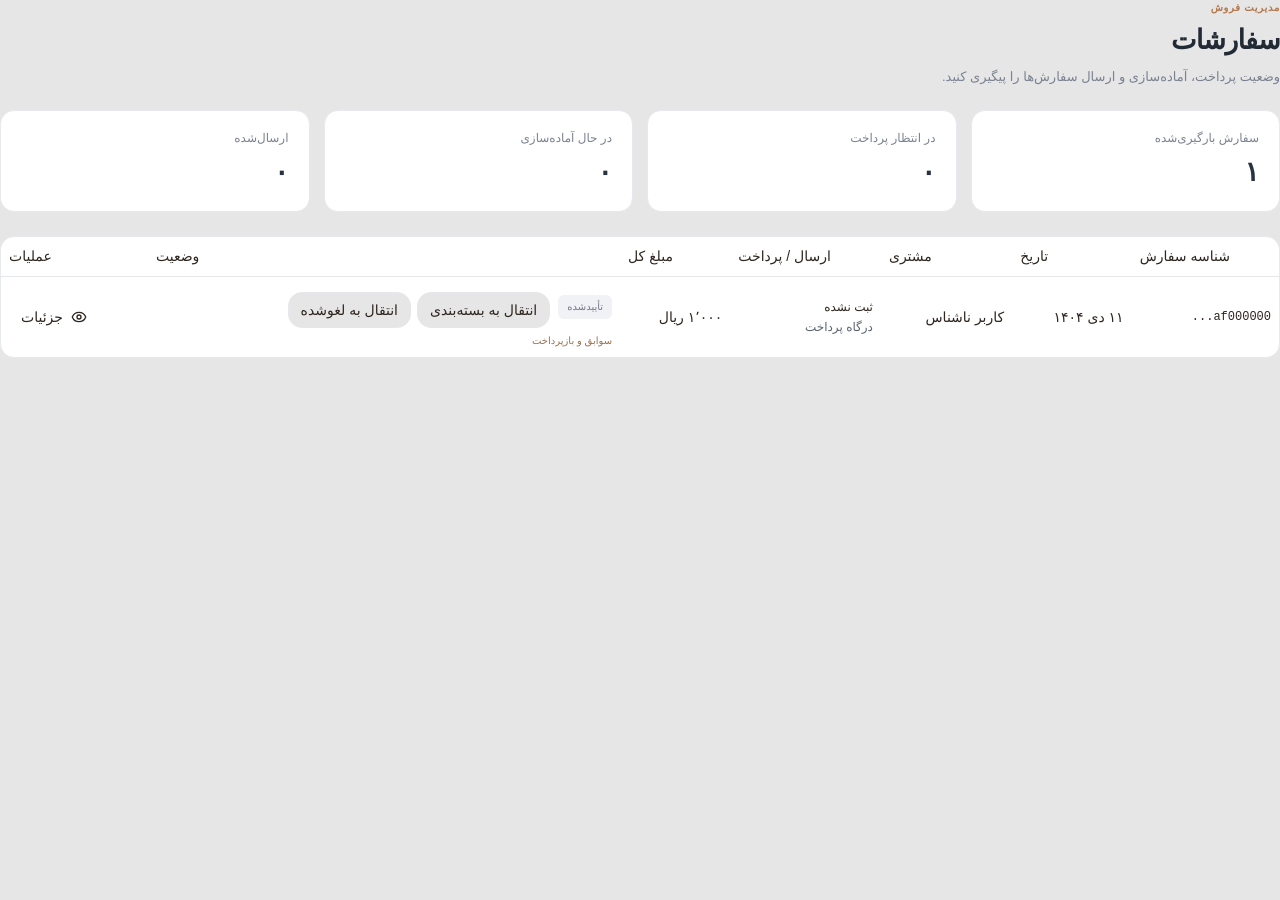
legacy order page uses the reviewed ERP workflow › retains uncertainty and the same request key without a legacy fallback
This screenshot has width=1280, height=900.
Step 1. Click the button "انتقال به بسته‌بندی" → click(484, 310), box [417,292,550,328]
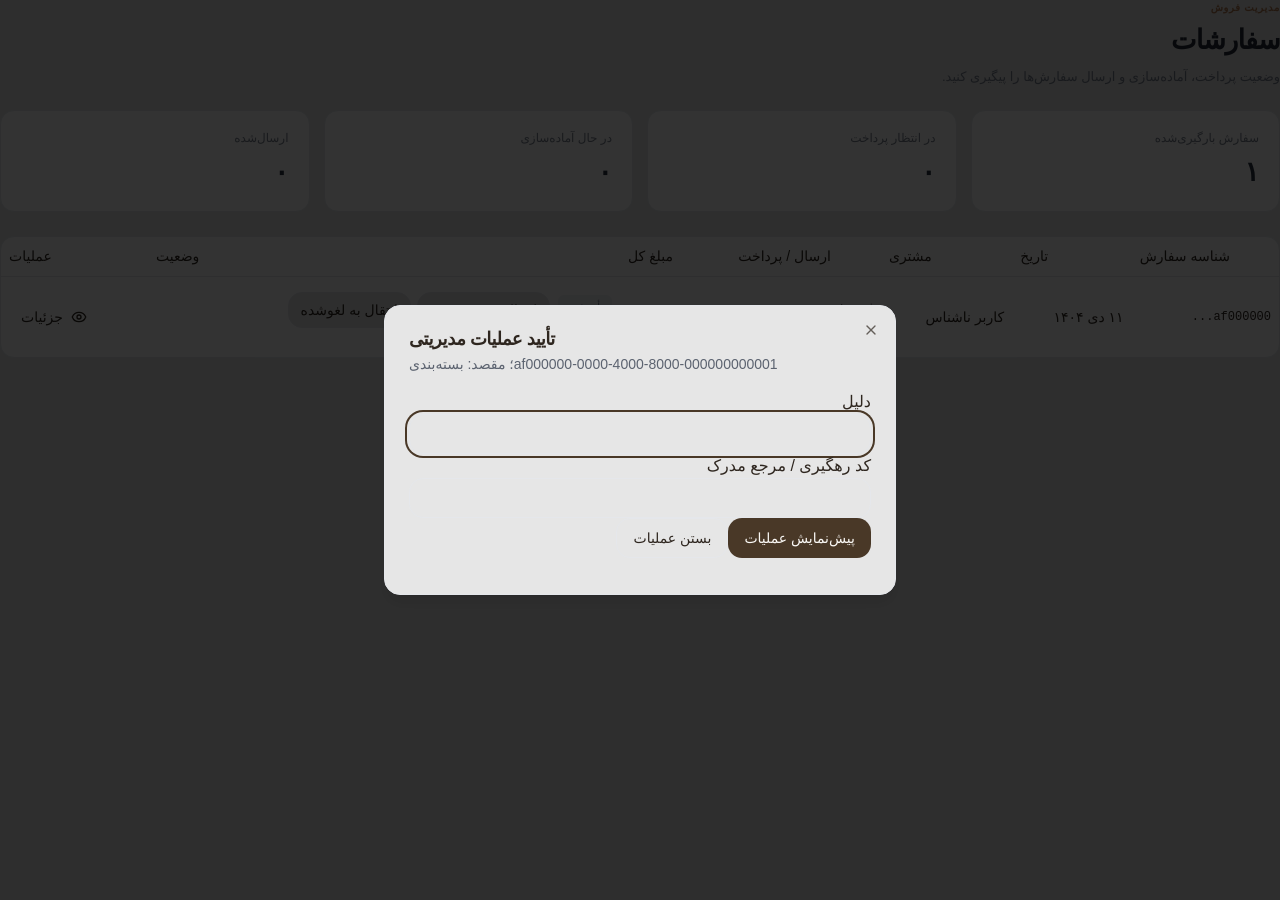
Step 2. Type "packing fixture" into the field named "دلیل عملیات" → (640, 434), box [409,414,871,454]
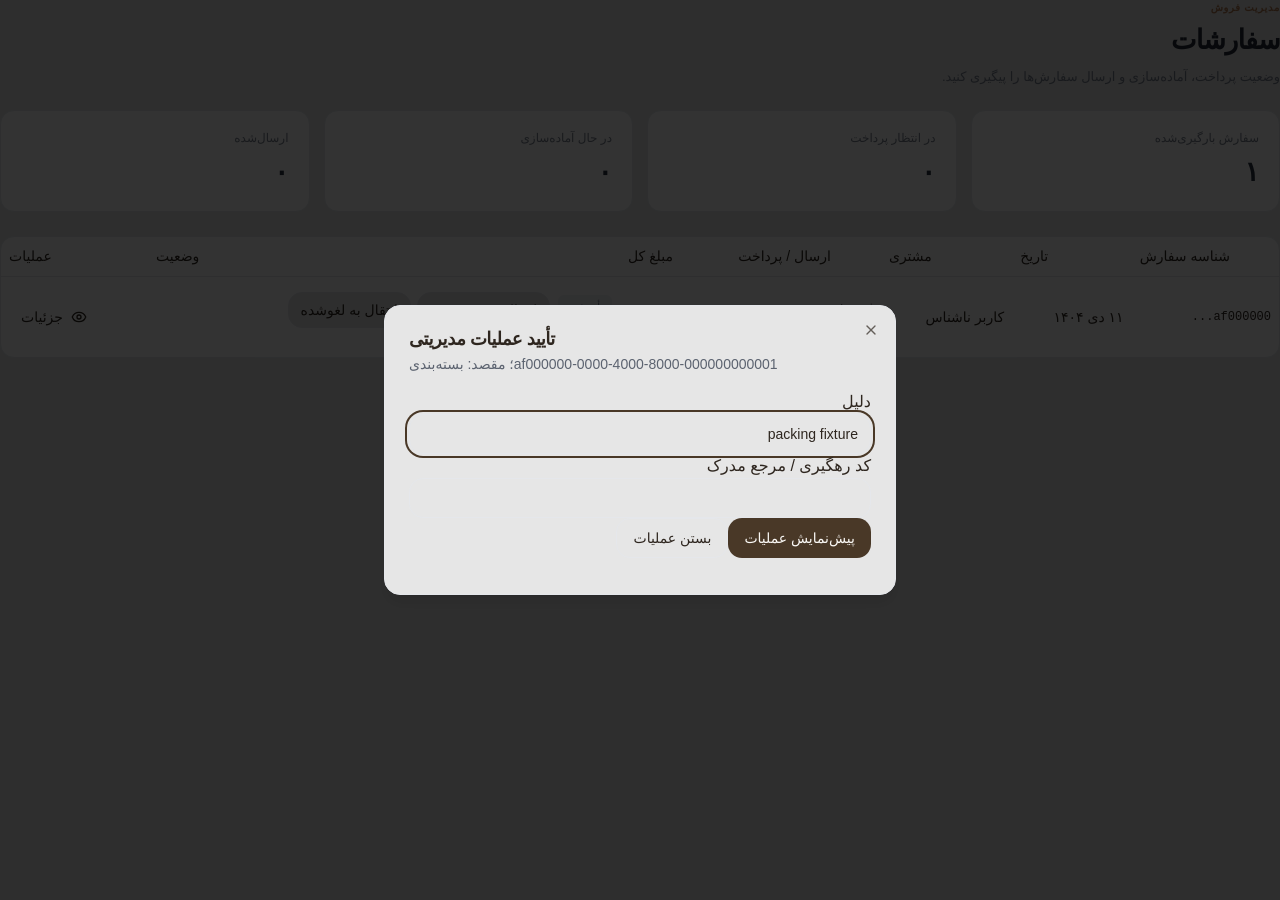
Step 3. Click the button "پیش‌نمایش عملیات" → click(800, 538), box [728,518,871,558]
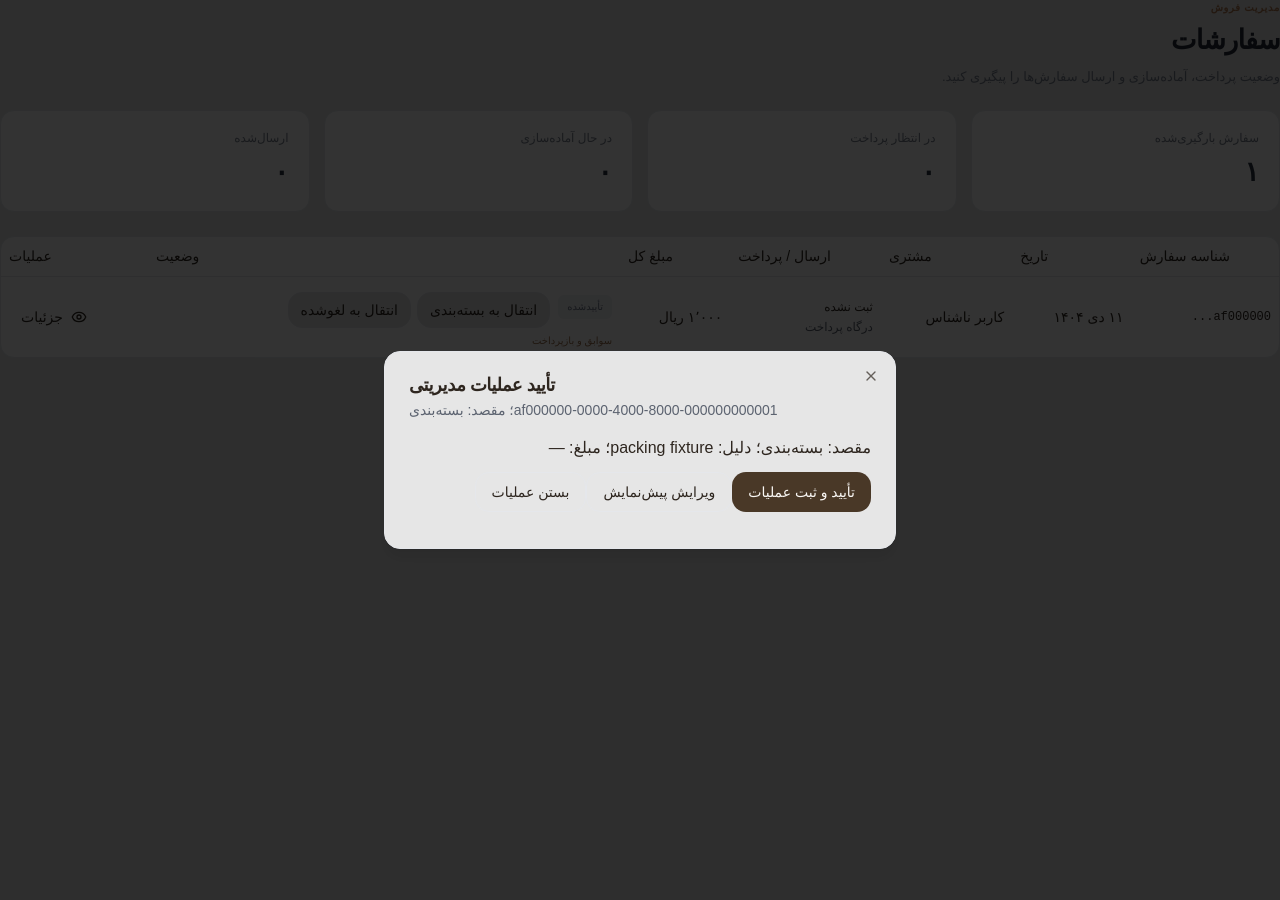
Step 4. Click the button "تأیید و ثبت عملیات" → click(802, 492), box [732,472,871,512]
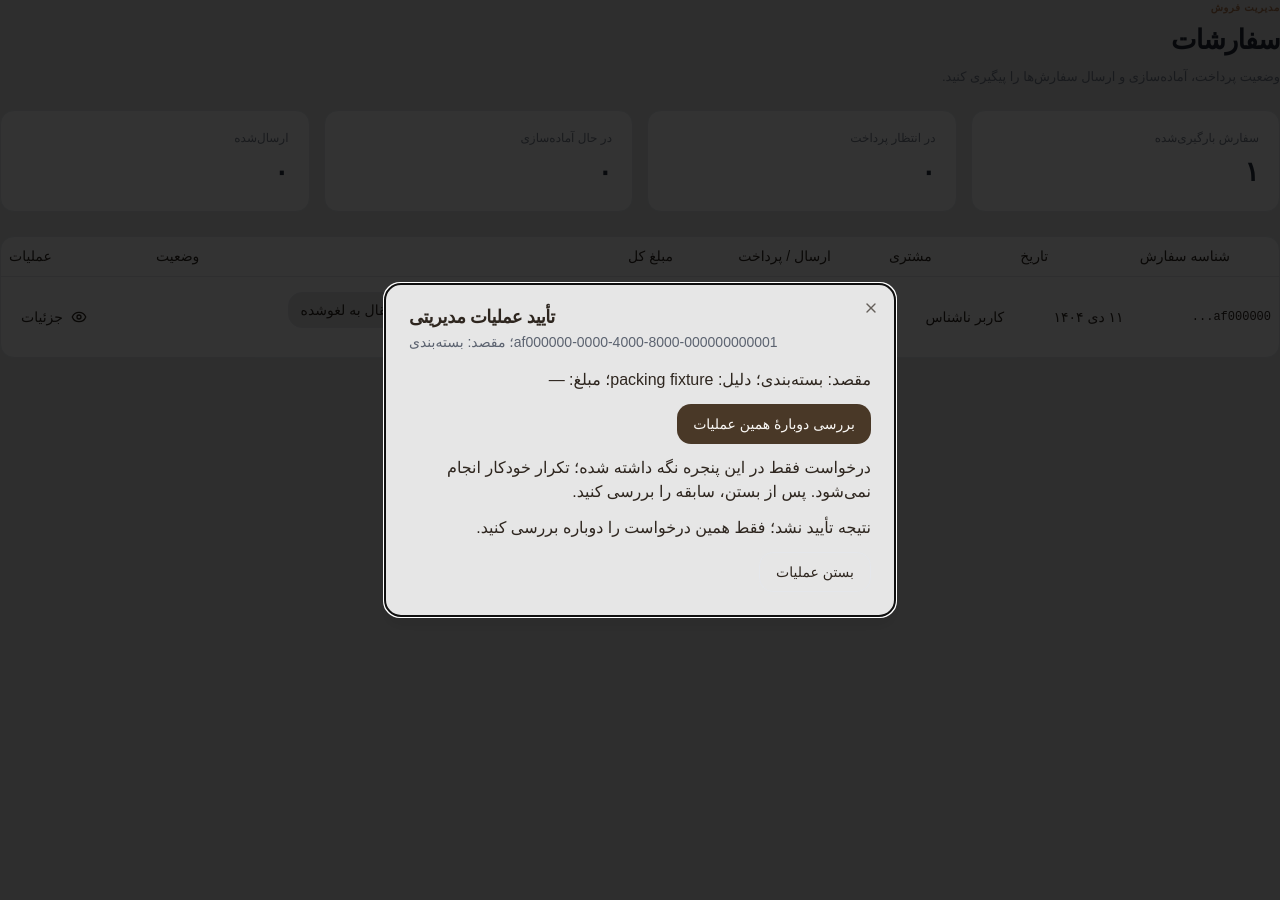
Step 5. Click the button "بررسی دوبارهٔ همین عملیات" → click(774, 424), box [677,404,871,444]
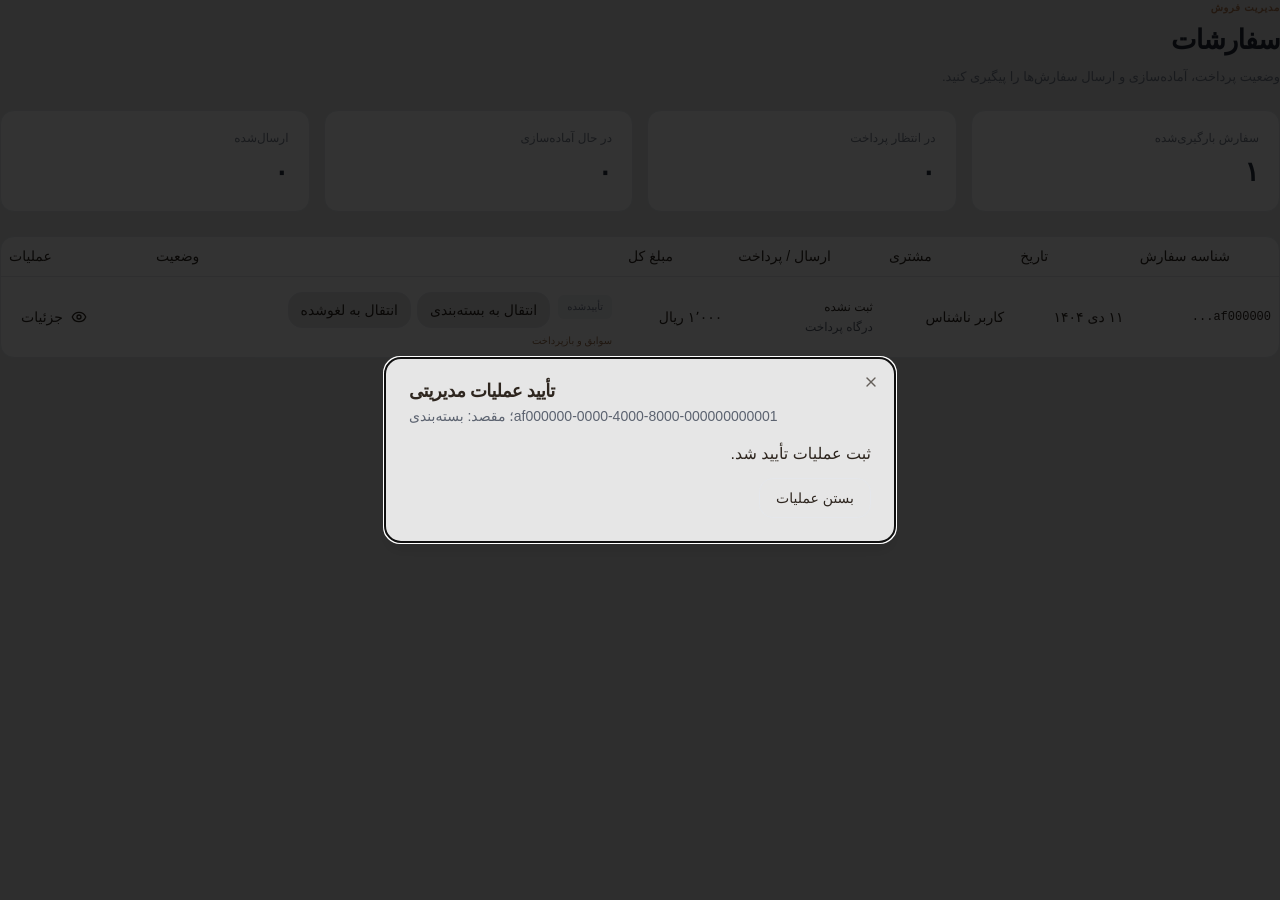
Expected: the text "ثبت عملیات تأیید شد." is shown, [730,445,871,462]
